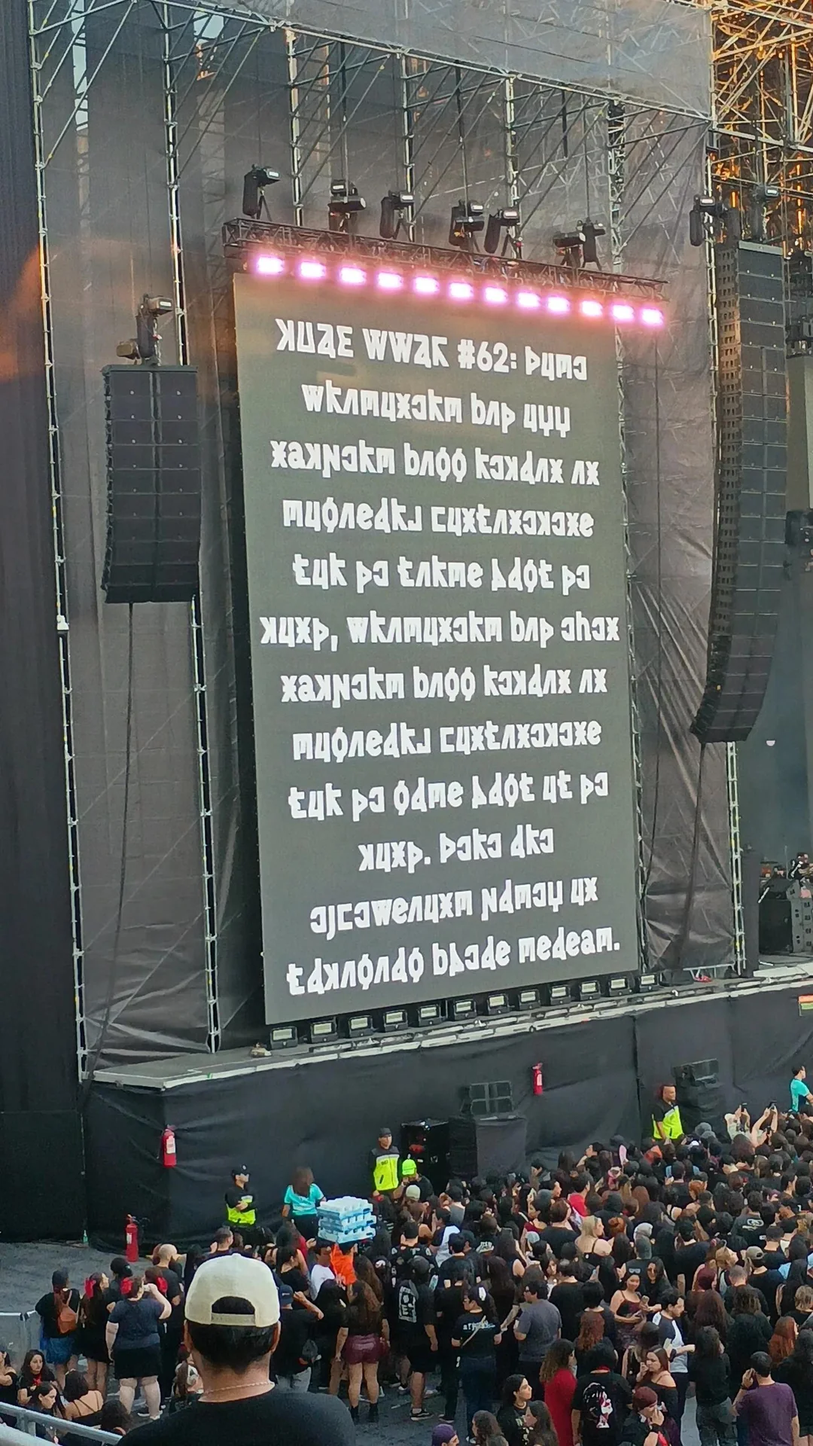2: (491, 341, 512, 376)
6: (473, 339, 494, 374)
A: (315, 319, 338, 361), (410, 331, 433, 370)
M: (273, 315, 297, 354)
O: (295, 317, 318, 356)
P: (361, 324, 389, 364), (387, 327, 415, 367)
R: (430, 332, 452, 371)
T: (335, 322, 356, 362)
TH: (437, 831, 457, 868)
a: (304, 957, 325, 998), (409, 775, 430, 813), (486, 771, 507, 808), (496, 878, 517, 915), (391, 945, 410, 985), (373, 496, 392, 535), (382, 722, 401, 760), (479, 936, 498, 972), (506, 556, 525, 591), (508, 824, 527, 859), (550, 926, 569, 961), (526, 664, 544, 698), (519, 452, 537, 485)
b: (331, 671, 352, 709), (320, 440, 342, 474), (478, 886, 499, 921)
c: (336, 899, 356, 934), (437, 724, 456, 756), (430, 504, 448, 536)
d: (538, 403, 556, 437), (546, 879, 564, 913), (555, 405, 573, 438)
e: (307, 903, 330, 936), (454, 831, 474, 866), (352, 898, 372, 933), (350, 671, 370, 705), (571, 352, 592, 384), (488, 452, 509, 484), (367, 784, 388, 815), (463, 940, 482, 974), (372, 559, 392, 591), (486, 829, 505, 861), (409, 392, 428, 423), (538, 825, 557, 856), (451, 616, 471, 645), (340, 442, 358, 474), (592, 771, 611, 801), (531, 880, 549, 910), (521, 509, 540, 537), (549, 510, 568, 538), (575, 563, 594, 591), (558, 615, 577, 643), (497, 668, 514, 699), (589, 615, 607, 643), (529, 723, 547, 751), (558, 721, 576, 749)
f: (283, 961, 307, 998), (287, 785, 308, 821), (516, 770, 537, 806), (291, 553, 313, 587), (396, 554, 416, 588), (538, 558, 557, 592), (554, 770, 573, 803), (483, 720, 502, 752), (475, 502, 493, 534)
h: (468, 774, 489, 812), (446, 941, 465, 981), (488, 557, 507, 593)
i: (338, 958, 359, 993), (413, 557, 433, 591), (341, 385, 362, 417), (337, 498, 356, 533), (418, 448, 438, 480), (405, 895, 424, 928), (374, 953, 392, 987), (347, 729, 366, 760), (385, 615, 404, 645), (523, 614, 541, 645), (500, 723, 519, 752), (429, 670, 446, 702), (491, 508, 510, 536), (533, 456, 551, 485), (569, 459, 587, 488), (485, 398, 502, 428), (542, 669, 559, 698), (578, 668, 595, 697)
l: (320, 496, 341, 534), (391, 779, 412, 816), (501, 773, 522, 808), (432, 446, 452, 482), (450, 447, 470, 483), (356, 953, 374, 992), (521, 557, 539, 595), (330, 726, 349, 762), (443, 666, 461, 702), (459, 666, 477, 702)
m: (320, 959, 342, 994), (305, 440, 326, 473), (355, 841, 375, 873), (313, 672, 333, 703), (258, 616, 278, 646), (503, 452, 521, 483), (534, 509, 553, 537), (542, 722, 561, 750), (512, 668, 528, 699)
n: (265, 437, 290, 471), (278, 672, 300, 706), (294, 615, 314, 648), (435, 616, 456, 645), (437, 890, 456, 922), (395, 390, 413, 422), (459, 505, 477, 537), (582, 875, 600, 906), (469, 723, 487, 753), (515, 722, 533, 752), (506, 508, 525, 536), (548, 456, 566, 485), (584, 459, 602, 488), (565, 510, 583, 538), (603, 614, 621, 642), (556, 668, 573, 697), (592, 668, 609, 697), (572, 720, 590, 747), (392, 841, 408, 871)
o: (312, 730, 334, 765), (302, 499, 323, 534), (310, 557, 331, 592), (306, 788, 327, 823), (277, 616, 297, 649), (421, 893, 441, 926), (420, 616, 441, 647), (541, 772, 560, 806), (380, 390, 399, 423), (522, 402, 540, 436), (538, 350, 557, 382), (375, 841, 394, 872), (446, 506, 464, 538), (454, 725, 472, 757), (569, 876, 587, 908)
p: (345, 614, 371, 647), (300, 381, 325, 414), (371, 895, 393, 930)
r: (322, 379, 347, 417), (323, 782, 345, 817), (406, 946, 425, 986), (398, 720, 417, 759), (367, 612, 389, 645), (425, 388, 445, 424), (473, 446, 493, 482), (327, 552, 348, 586), (356, 439, 376, 474), (367, 666, 387, 701), (431, 555, 451, 589), (465, 610, 485, 644), (391, 497, 409, 534), (482, 664, 500, 700), (522, 823, 541, 857)
s: (374, 444, 397, 480), (291, 730, 315, 763), (427, 777, 448, 814), (359, 388, 382, 420), (468, 828, 489, 863), (281, 498, 304, 529), (384, 670, 406, 702), (402, 614, 424, 645), (554, 350, 575, 382), (513, 879, 533, 912), (443, 395, 464, 426), (516, 935, 537, 966), (447, 559, 467, 590), (483, 614, 503, 645), (594, 924, 614, 955), (454, 888, 473, 920)
t: (446, 776, 467, 813), (390, 895, 410, 928), (534, 933, 555, 964), (356, 500, 375, 534), (365, 728, 385, 759), (466, 560, 486, 590), (495, 939, 513, 970), (564, 929, 582, 960), (578, 511, 596, 539), (586, 720, 603, 747)
th: (521, 343, 543, 379), (349, 788, 370, 823), (353, 560, 373, 595), (406, 839, 426, 874), (311, 617, 331, 651), (559, 563, 578, 598), (577, 773, 597, 806), (498, 400, 516, 434), (537, 617, 555, 649)
u: (287, 439, 308, 472), (297, 674, 317, 704), (580, 928, 598, 959)
v: (573, 612, 592, 645)
w: (400, 442, 423, 478), (410, 665, 430, 702), (431, 940, 449, 980), (467, 392, 487, 426), (507, 610, 526, 644)
x: (321, 904, 339, 941)
y: (416, 726, 435, 758), (407, 503, 425, 534)
